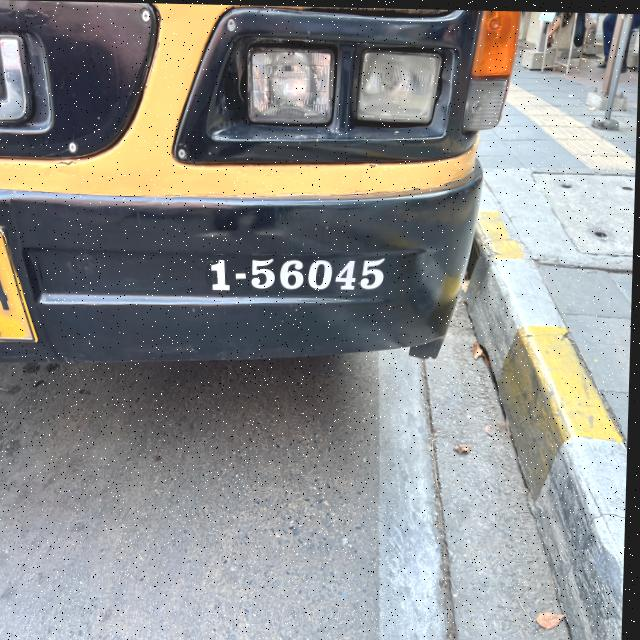BMTA-bus: (0, 0, 490, 376)
